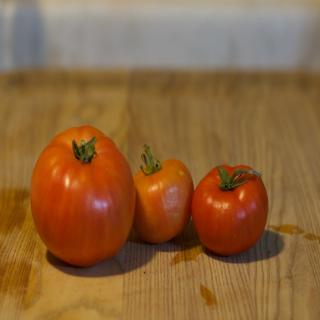tomato: (30, 126, 137, 266), (192, 165, 269, 259), (133, 145, 195, 245)
